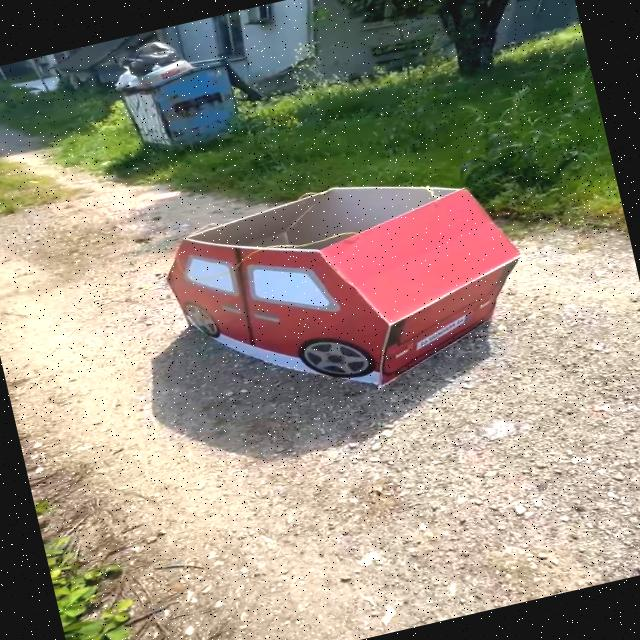red_car: (121, 114, 594, 439)
